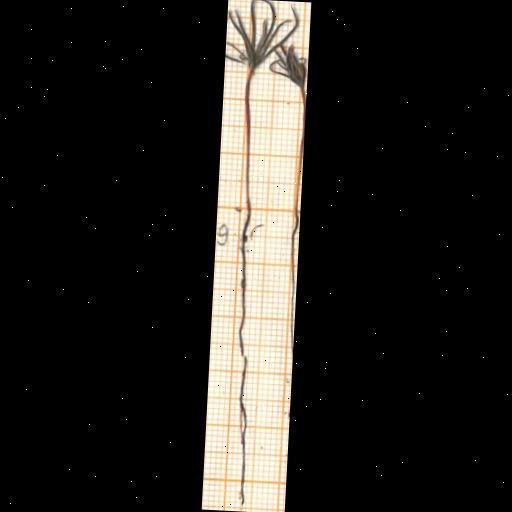flowerPinus: (229, 0, 289, 71), (269, 42, 307, 89)
rootPinus: (239, 212, 250, 505), (237, 359, 248, 504)
stemPinus: (242, 71, 251, 214)
